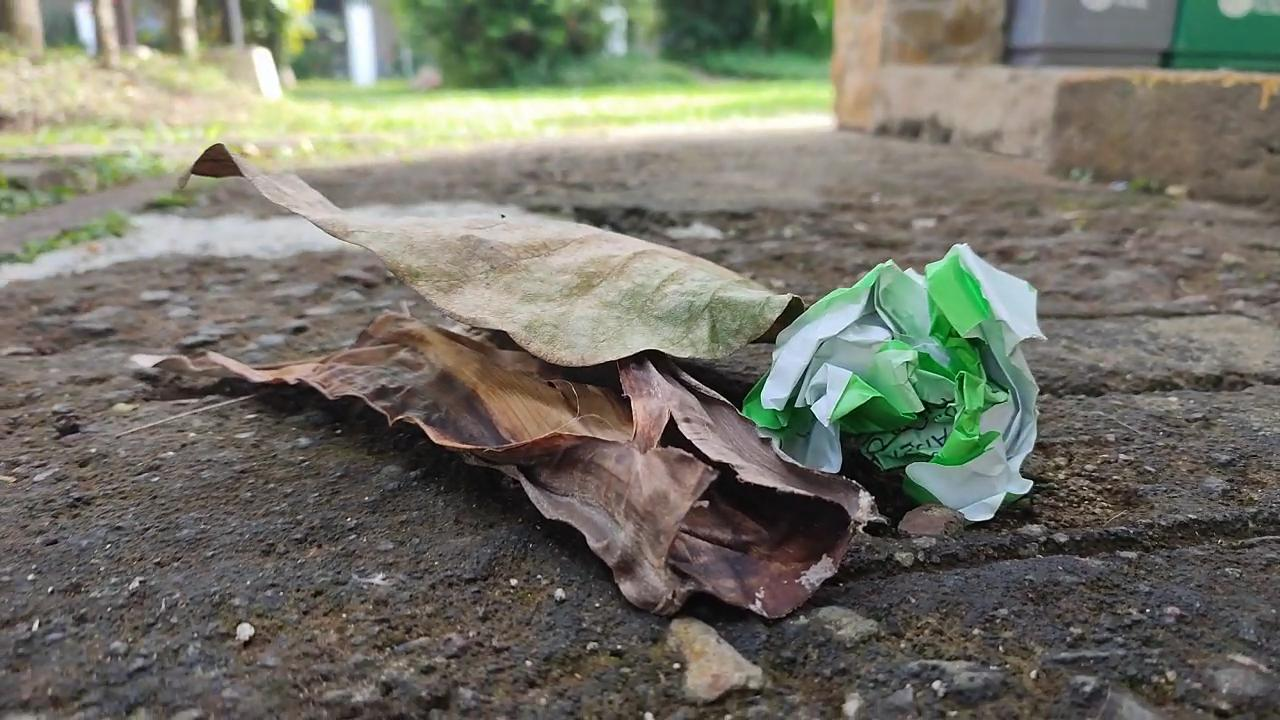Paper: (739, 248, 1052, 523)
